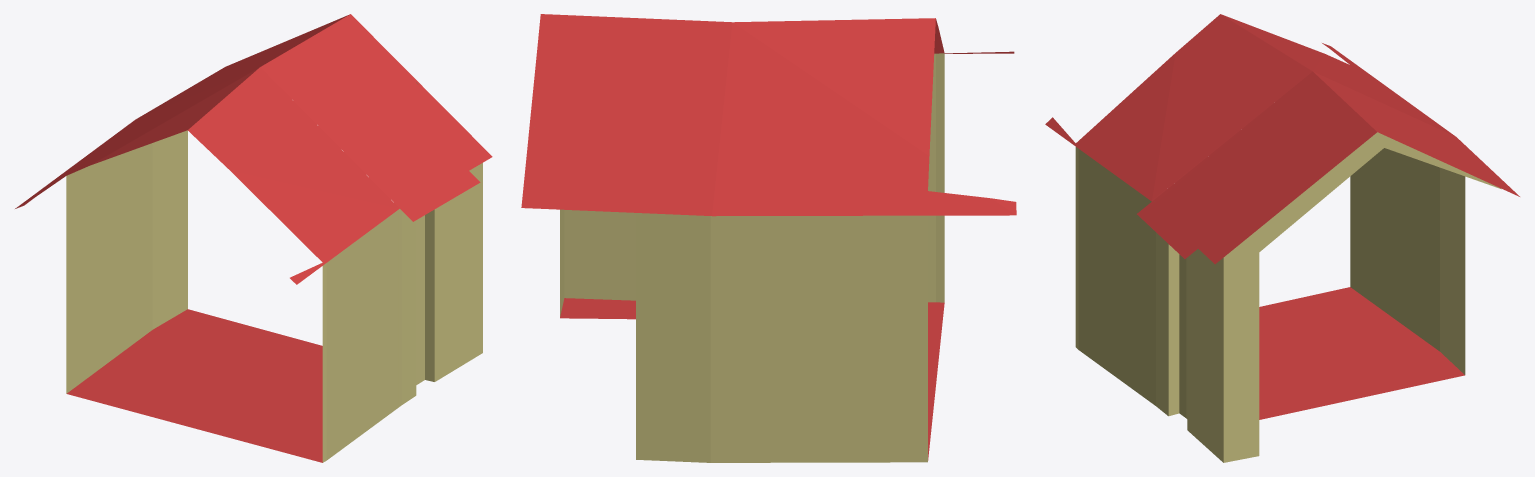
The picture shows the model from 3 angles, left to right: view 1: azimuth 30°, elevation 25°; view 2: azimuth 150°, elevation 25°; view 3: azimuth 270°, elevation 25°; orthographic projection. The views are drawn at different scales.
Size of the model in its own units: 20.7 by 19.87 by 13.95.
